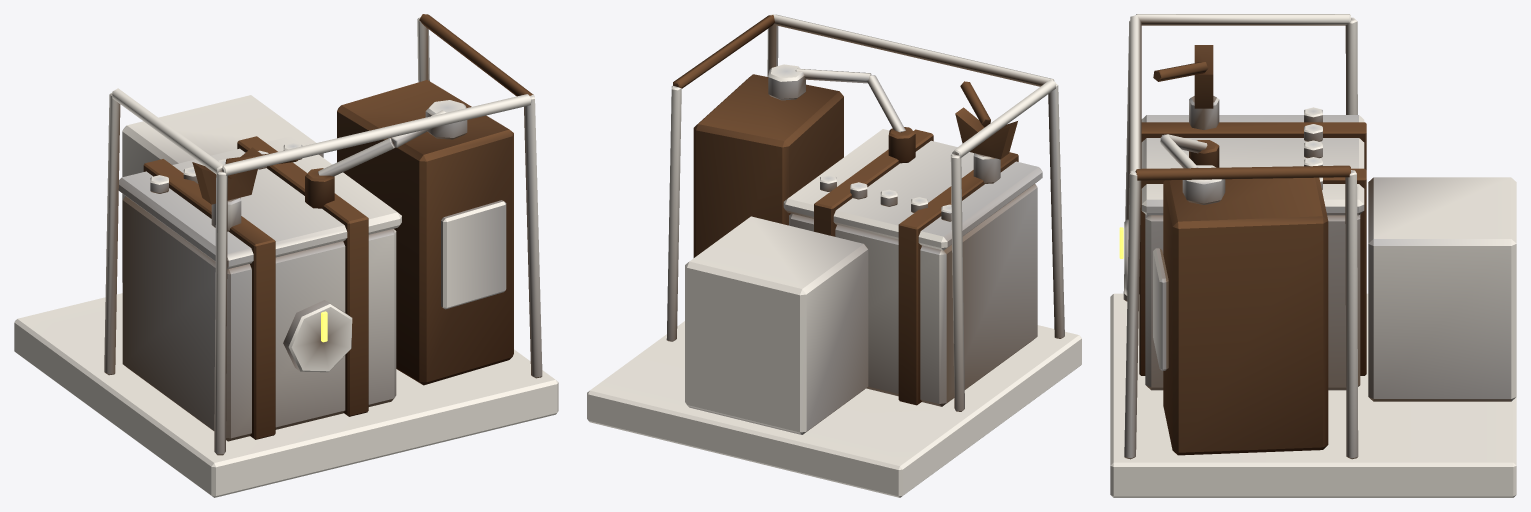
Rendered from R4X_Battery_LOD1.fbx.
3 renders of one model, left to right at view 1: azimuth 30°, elevation 25°; view 2: azimuth 150°, elevation 25°; view 3: azimuth 270°, elevation 25°, orthographic. The views are drawn at different scales.
Visible parts, largest first — view 1: R4X_Battery_LOD1; view 2: R4X_Battery_LOD1; view 3: R4X_Battery_LOD1.
Part boxes in pixels (x1,y1,x2,y2): R4X_Battery_LOD1: (14, 14, 558, 497); R4X_Battery_LOD1: (587, 14, 1081, 497); R4X_Battery_LOD1: (1110, 14, 1516, 497).
Bounding box in the file's own units: 0.52 × 0.4576 × 0.52.
